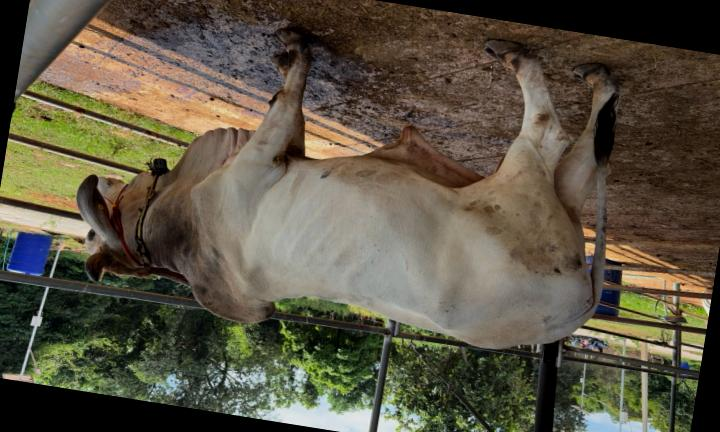Brahman: (77, 29, 621, 348)
